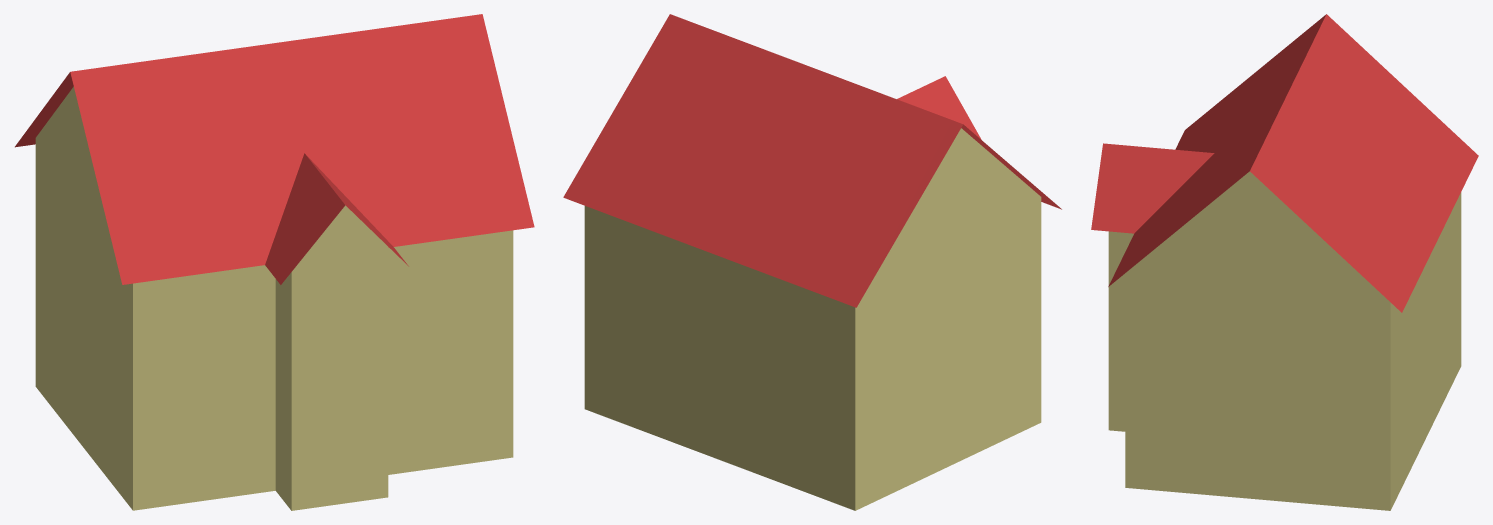
The picture shows the model from 3 angles, left to right: view 1: azimuth 30°, elevation 25°; view 2: azimuth 150°, elevation 25°; view 3: azimuth 270°, elevation 25°; orthographic projection. The views are drawn at different scales.
Bounding box in the file's own units: 14.68 × 13.15 × 12.5.
